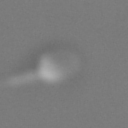normal: (1, 65, 39, 90)
